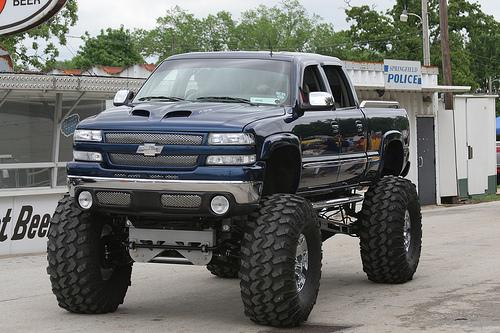truck: (47, 50, 424, 328)
